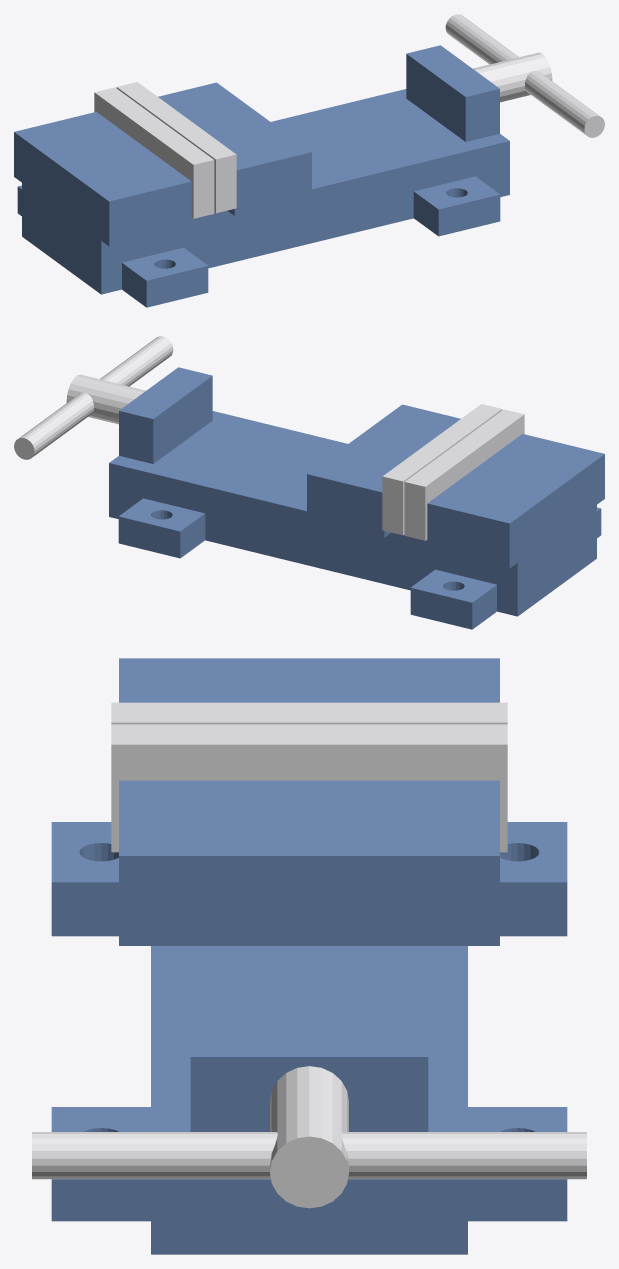
File: vise-manual.glb
3 views of the same model, one above another, from view 1: azimuth 30°, elevation 25°; view 2: azimuth 150°, elevation 25°; view 3: azimuth 270°, elevation 25° (orthographic). The views are drawn at different scales.
Visible parts, largest first — view 1: body, jaw; view 2: body, jaw; view 3: body, jaw.
Part boxes in pixels (bbox=[...]): body: bbox=[14, 14, 604, 307]; jaw: bbox=[116, 82, 311, 215]; body: bbox=[14, 336, 604, 629]; jaw: bbox=[307, 404, 502, 537]; body: bbox=[32, 658, 586, 1254]; jaw: bbox=[111, 724, 507, 945].
Size of what is drawn, in the model's own units: 0.28 by 0.065 by 0.14.
